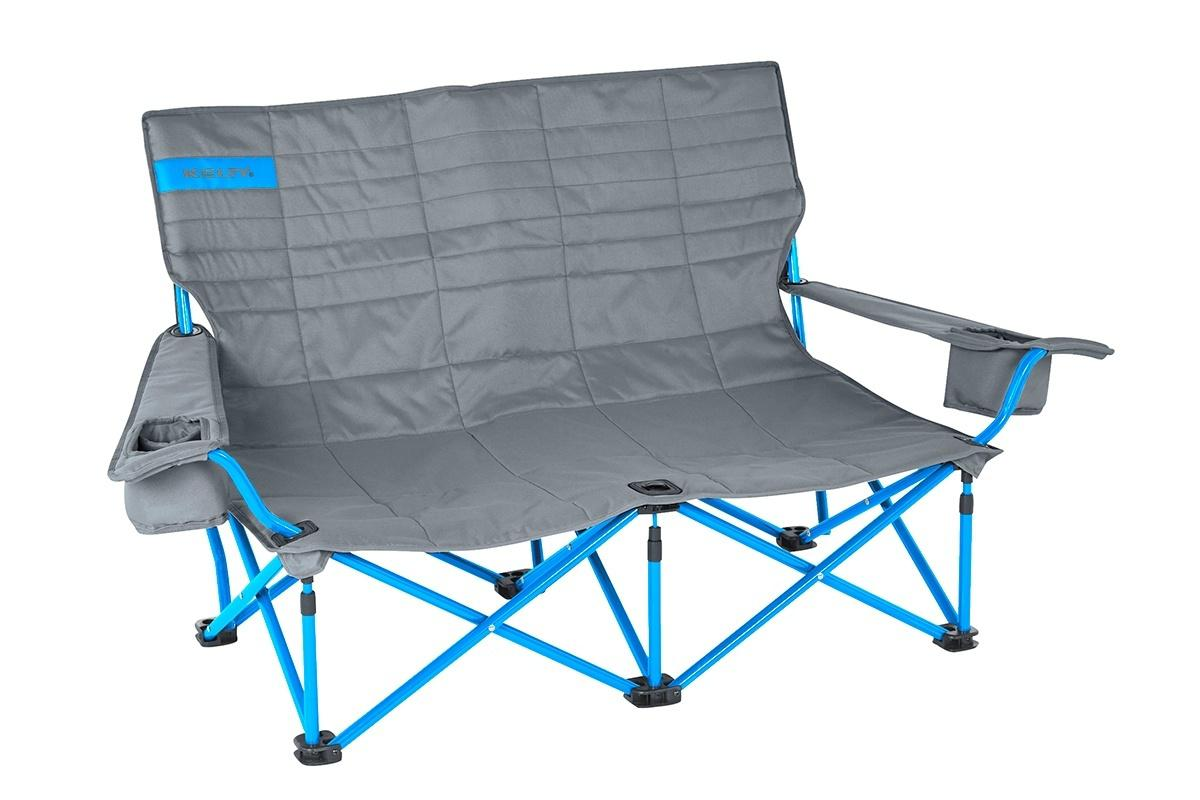chair: (89, 50, 1106, 745)
